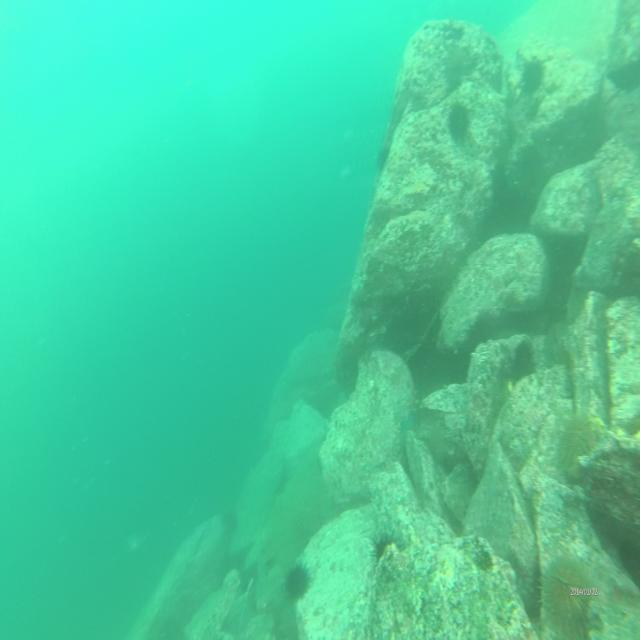echinus: (537, 554, 595, 640), (557, 414, 597, 482), (367, 528, 408, 572), (508, 339, 536, 395), (516, 53, 548, 97), (284, 562, 316, 605), (446, 97, 472, 148), (376, 140, 392, 170)
